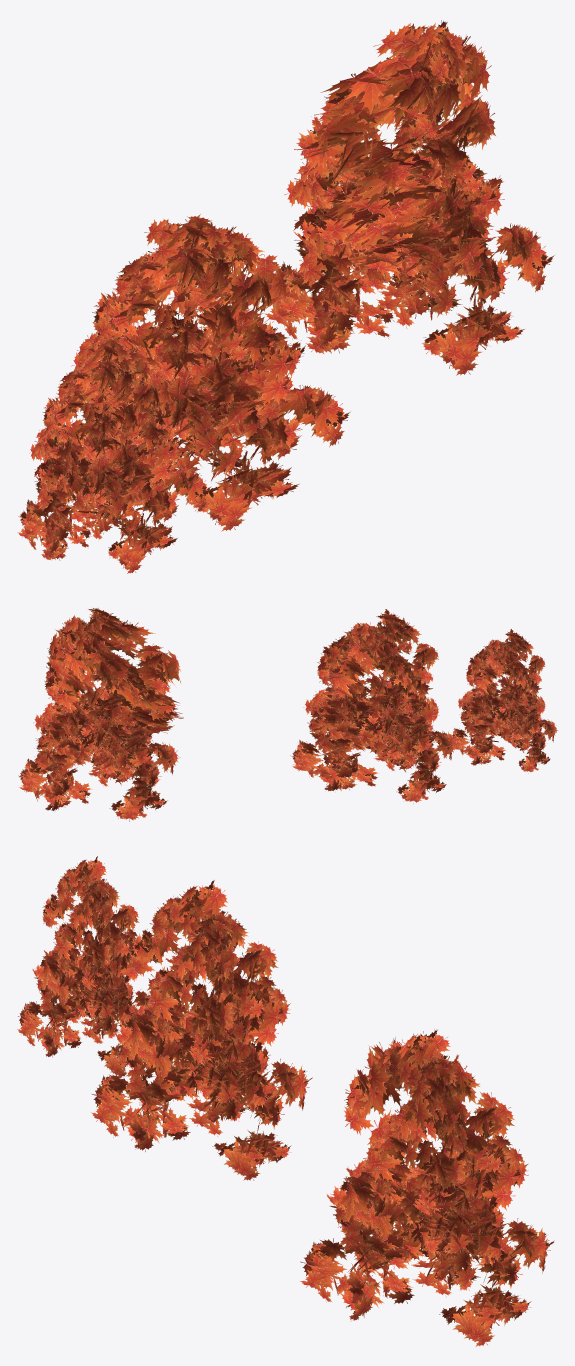
Rendered from AutumnLeaves4.obj.
3 views of the same model, one above another, from view 1: azimuth 30°, elevation 25°; view 2: azimuth 150°, elevation 25°; view 3: azimuth 270°, elevation 25° (orthographic). The views are drawn at different scales.
Parts seen in each view (by area): view 1: Dead_Tree.002; view 2: Dead_Tree.002; view 3: Dead_Tree.002.
Part boxes in pixels (bbox=[...]): Dead_Tree.002: bbox=[17, 20, 554, 573]; Dead_Tree.002: bbox=[18, 608, 557, 821]; Dead_Tree.002: bbox=[17, 856, 554, 1346].
Bounding box in the file's own units: 0.9612 × 0.4502 × 0.7513.
